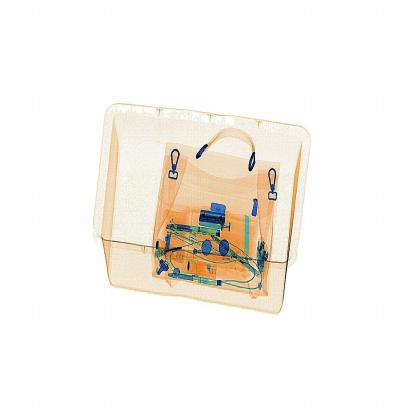pliers: (238, 209, 261, 284)
